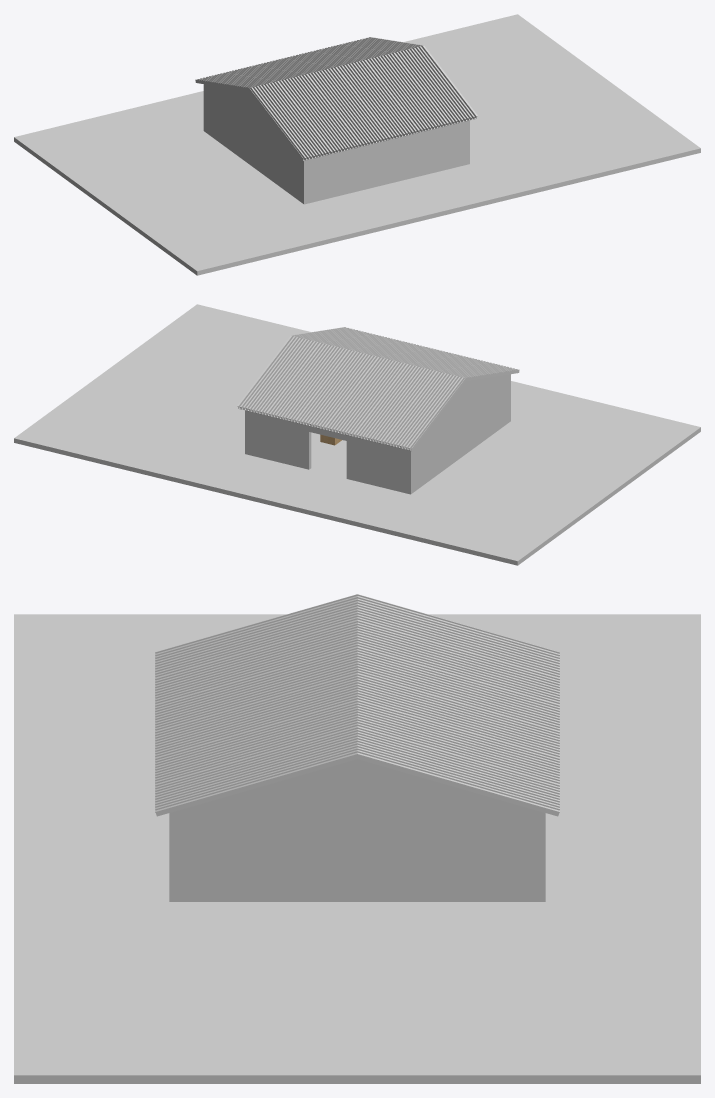
Rendered from Depo.fbx.
3 views of the same model, one above another, from view 1: azimuth 30°, elevation 25°; view 2: azimuth 150°, elevation 25°; view 3: azimuth 270°, elevation 25° (orthographic). The views are drawn at different scales.
Parts seen in each view (by area): view 1: Ground, Depo; view 2: Ground, Depo; view 3: Ground, Depo.
Boxes of the visible parts, left/top/right/bottom form: Ground: left=14, top=14, right=700, bottom=275; Depo: left=195, top=37, right=477, bottom=204; Ground: left=14, top=304, right=700, bottom=565; Depo: left=237, top=327, right=519, bottom=494; Ground: left=14, top=614, right=700, bottom=1083; Depo: left=155, top=594, right=559, bottom=901.
Bounding box in the file's own units: 6502 × 1054 × 4095.
